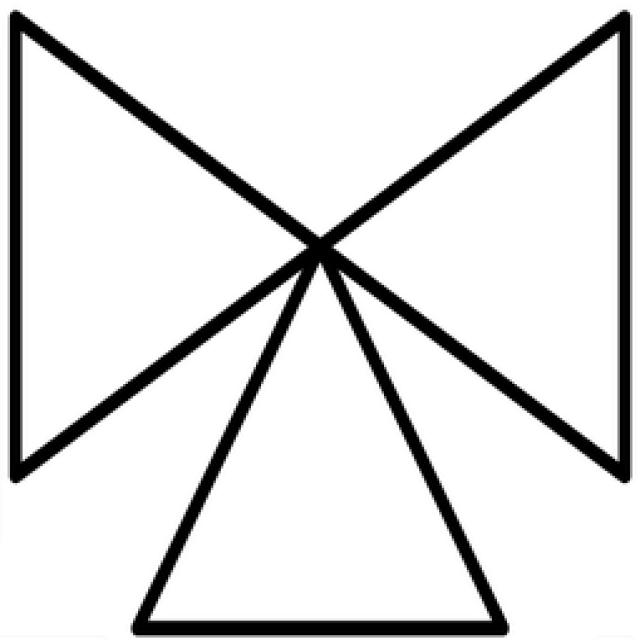3-way Valve: (10, 12, 627, 633)
